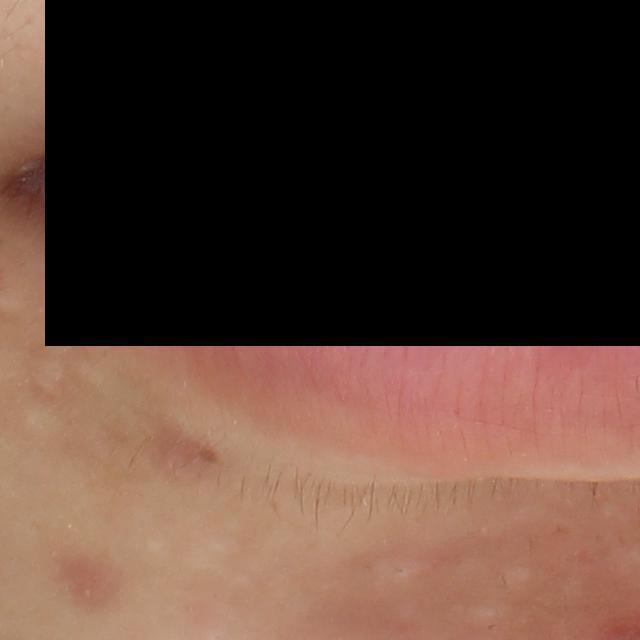hypertrophic_scar: (358, 544, 430, 585), (21, 400, 68, 450), (69, 355, 123, 396), (452, 597, 515, 624), (487, 561, 539, 593)
